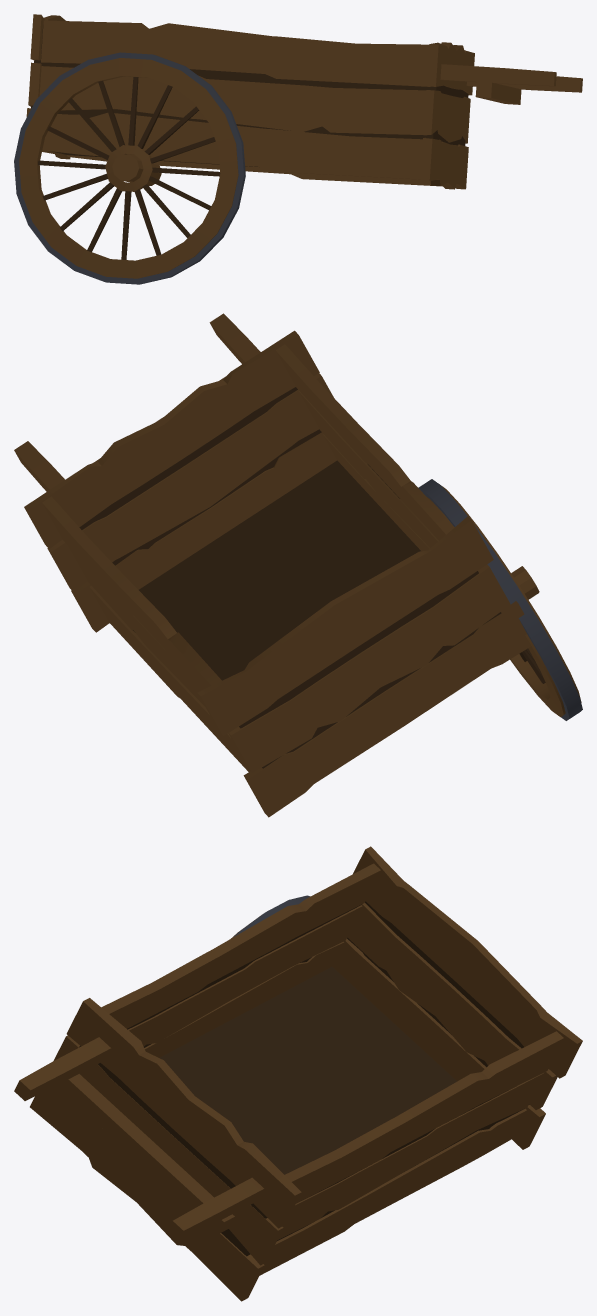
The model's file is Cart.glb.
3 renders of one model, top to bottom at view 1: azimuth 30°, elevation 25°; view 2: azimuth 150°, elevation 25°; view 3: azimuth 270°, elevation 25°, orthographic. The views are drawn at different scales.
Parts seen in each view (by area): view 1: Cart; view 2: Cart; view 3: Cart.
Part boxes in pixels (left/top/right/bottom): Cart: left=14, top=14, right=582, bottom=284; Cart: left=14, top=313, right=582, bottom=817; Cart: left=14, top=846, right=582, bottom=1301.
Size of the model in its own units: 331 by 138 by 283.
